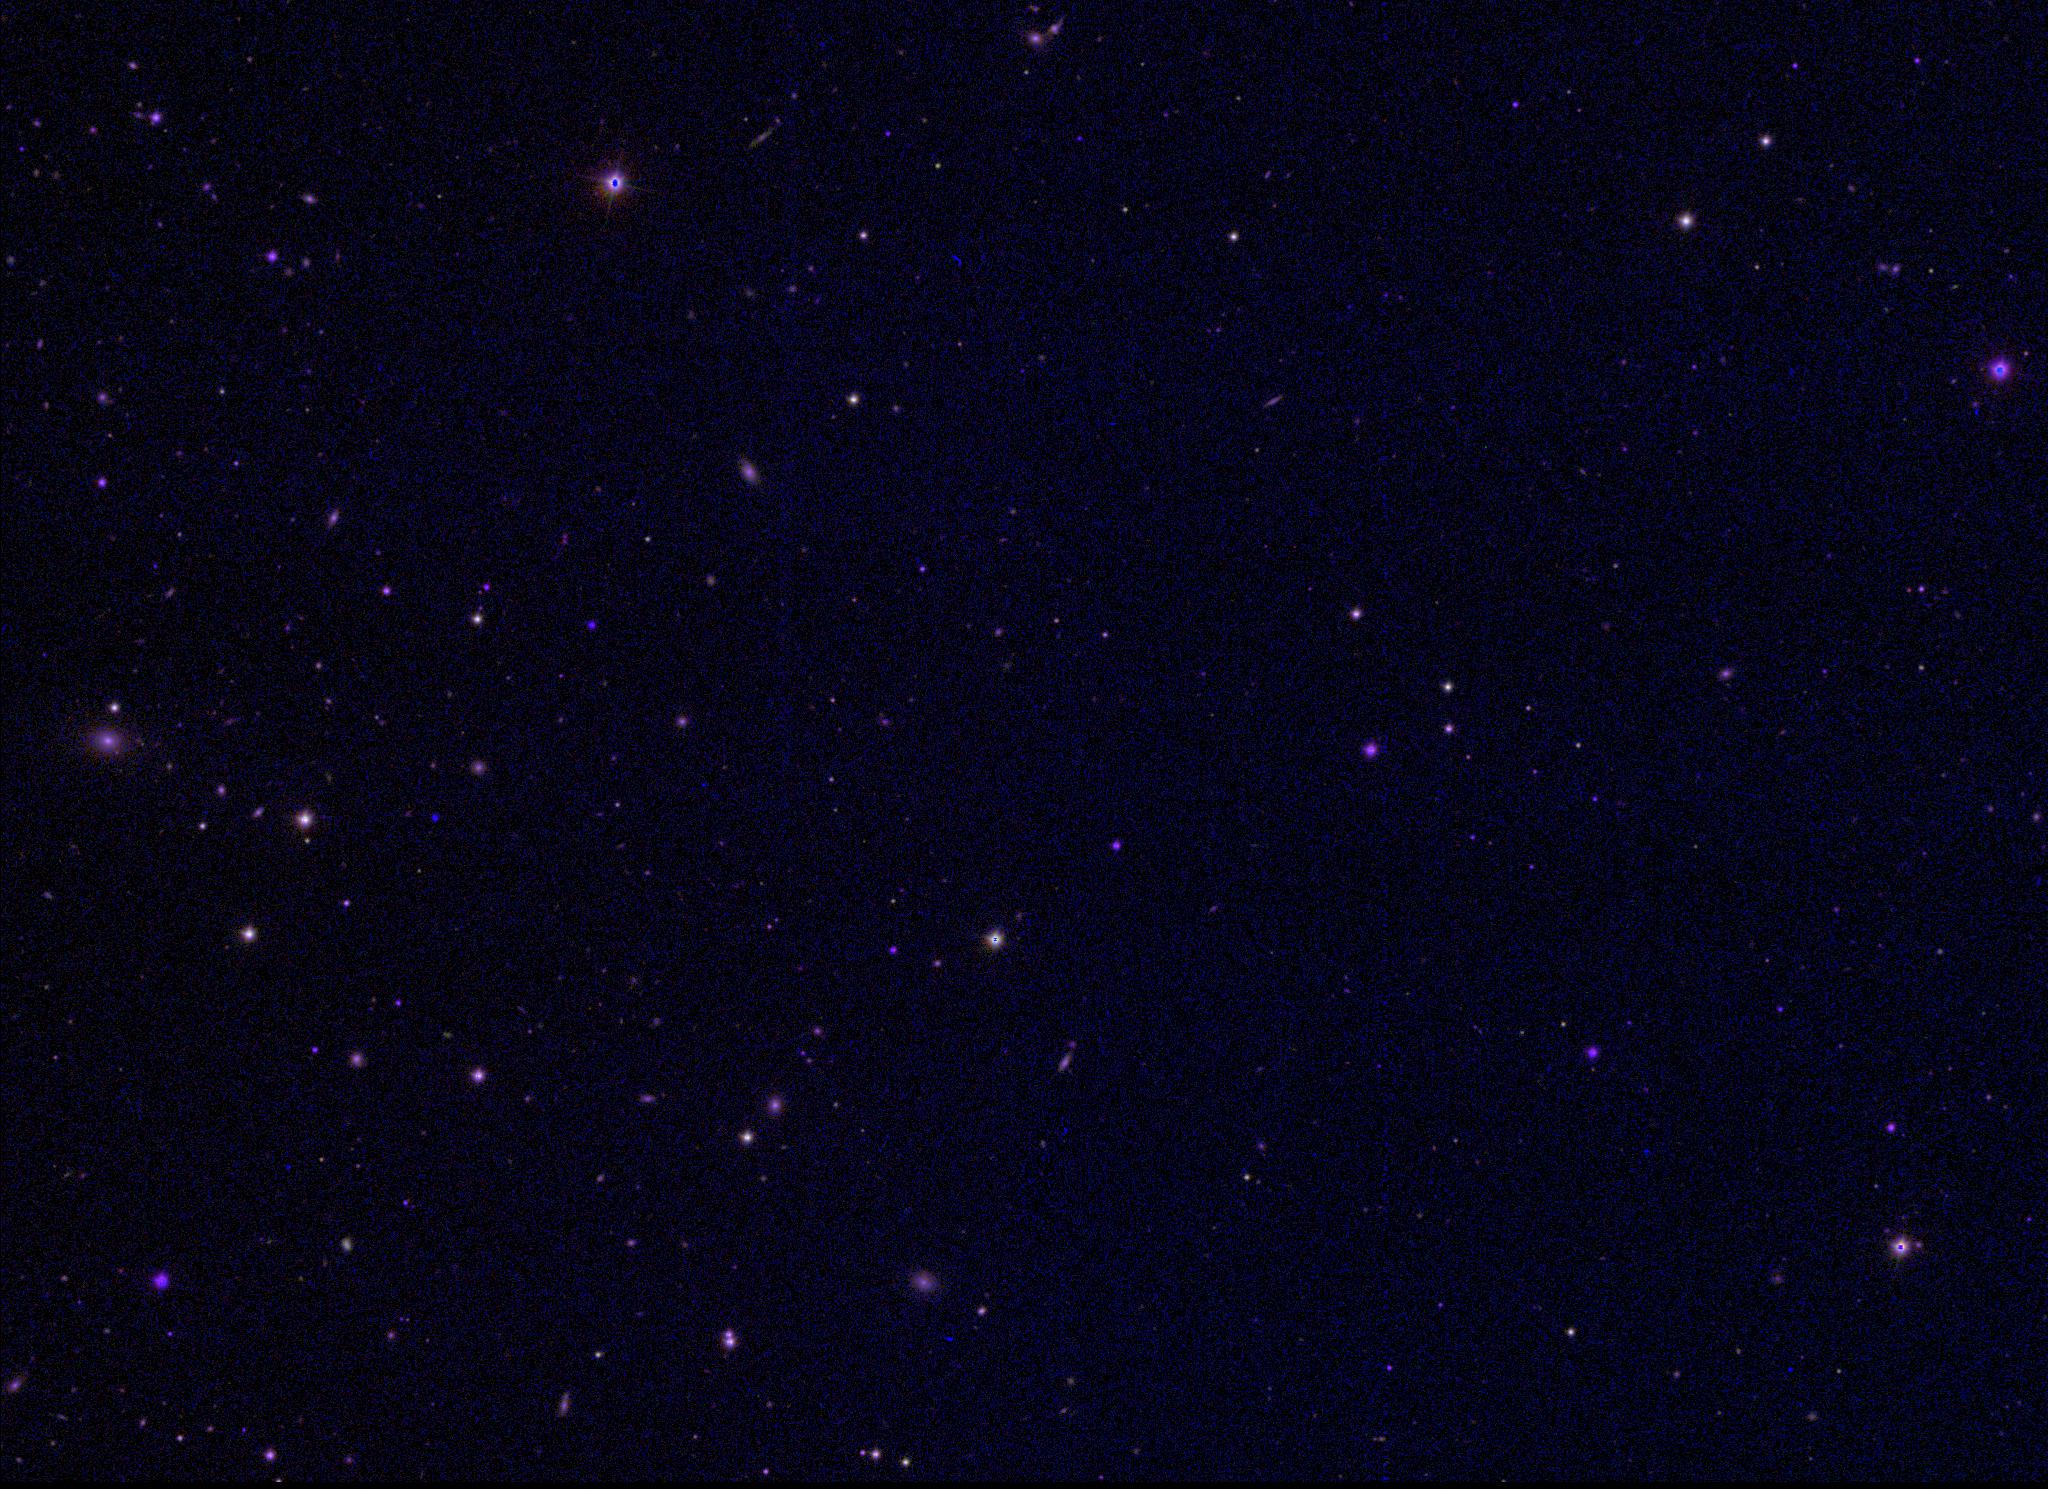L: (426, 807, 440, 821)
